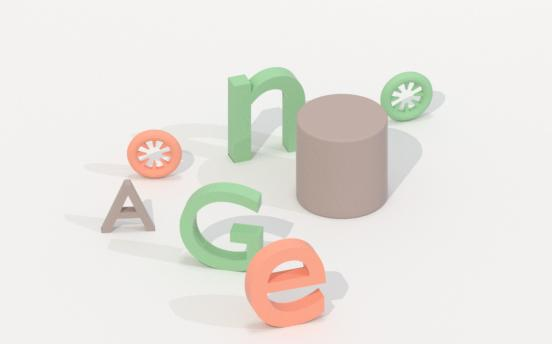A-hoa: (96, 177, 160, 237)
G-hoa: (176, 173, 269, 273)
e: (244, 234, 330, 329)
n: (225, 63, 309, 163)
tron: (380, 67, 435, 124), (126, 126, 183, 181)
tru: (293, 92, 392, 219)
